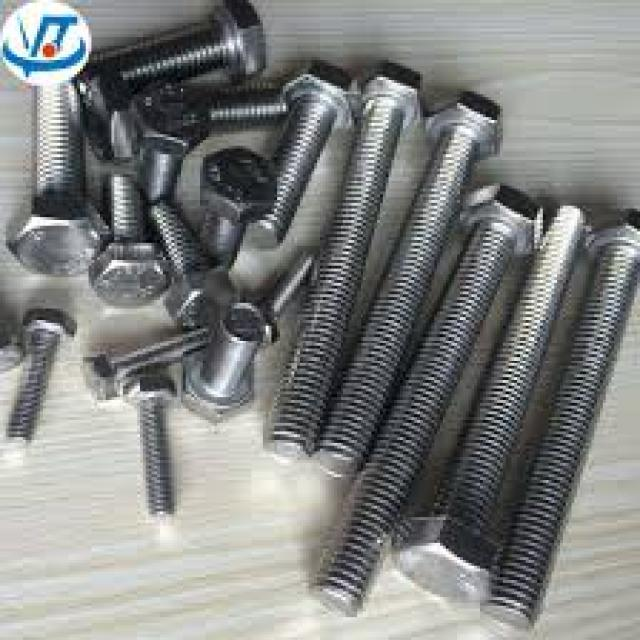metal: (303, 180, 543, 620), (391, 200, 586, 629), (317, 89, 503, 474), (260, 55, 429, 455), (480, 206, 637, 623), (0, 52, 109, 272), (74, 66, 289, 157), (263, 54, 343, 243), (83, 0, 263, 80), (126, 71, 206, 206), (91, 160, 166, 300), (146, 194, 231, 317), (180, 297, 257, 426), (197, 143, 272, 274), (123, 366, 183, 517), (83, 326, 203, 400), (9, 303, 72, 443), (252, 237, 315, 343)
